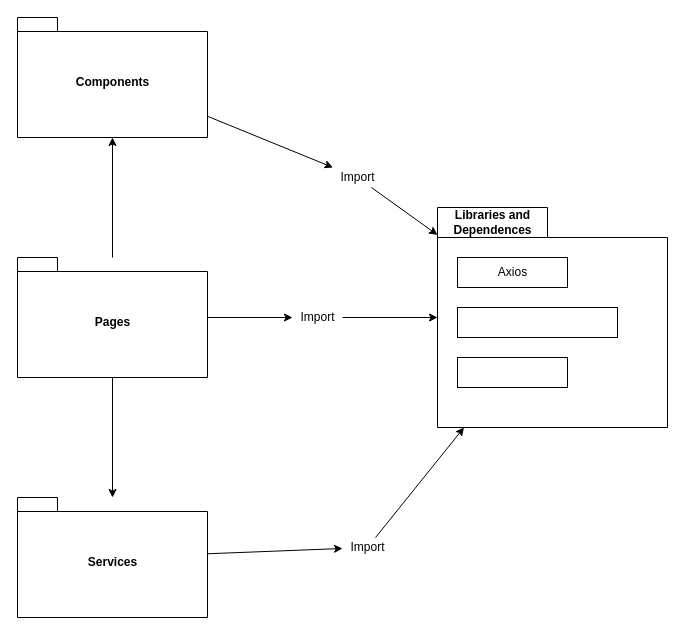
Image size: 685x635. Some labels were removed from this diagram. Here are the shapes that lost their labels. From the top down, the box of each, then its label:
(456, 306, 618, 338): React(Multiples libraries)
(456, 356, 568, 388): Bootstrap
